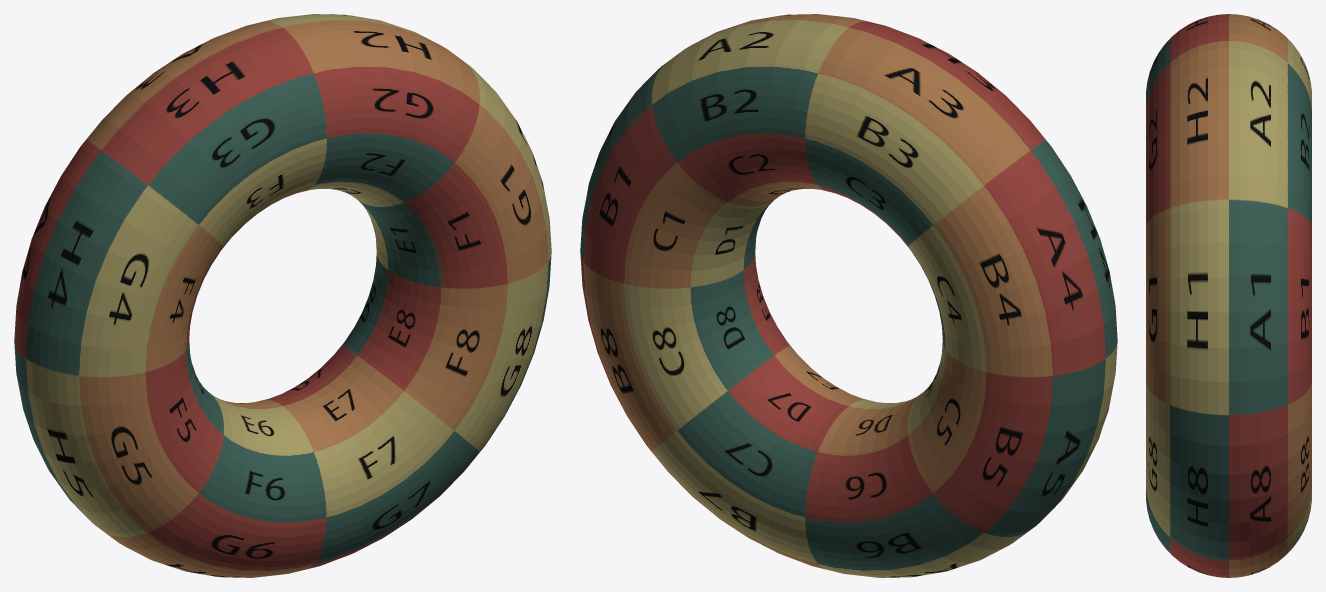
Rendered from texture_torus_R18_r27.glb.
3 renders of one model, left to right at view 1: azimuth 30°, elevation 25°; view 2: azimuth 150°, elevation 25°; view 3: azimuth 270°, elevation 25°, orthographic. The views are drawn at different scales.
Parts seen in each view (by area): view 1: world; view 2: world; view 3: world.
Part boxes in pixels (x1,y1,x2,y2): world: (14,14,551,577); world: (580,14,1117,577); world: (1146,14,1311,577).
Size of the model in its own units: 31.2 by 31.14 by 9.18.
Materials: 1 (1 with a texture image).
